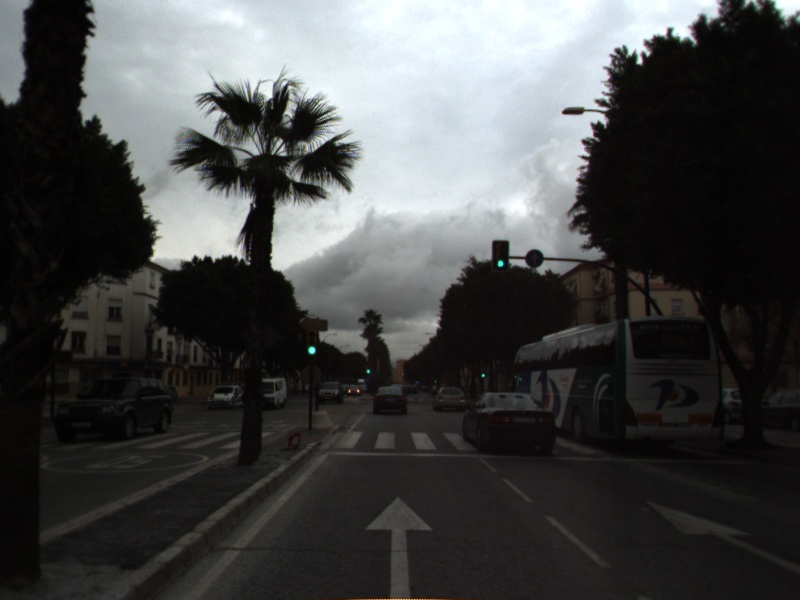STRAIGHT: (642, 496, 800, 572), (361, 493, 438, 600)
